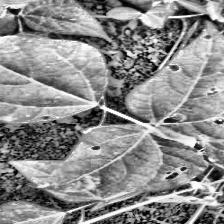ALS: (37, 124, 212, 192), (122, 21, 224, 131), (0, 33, 106, 124)
